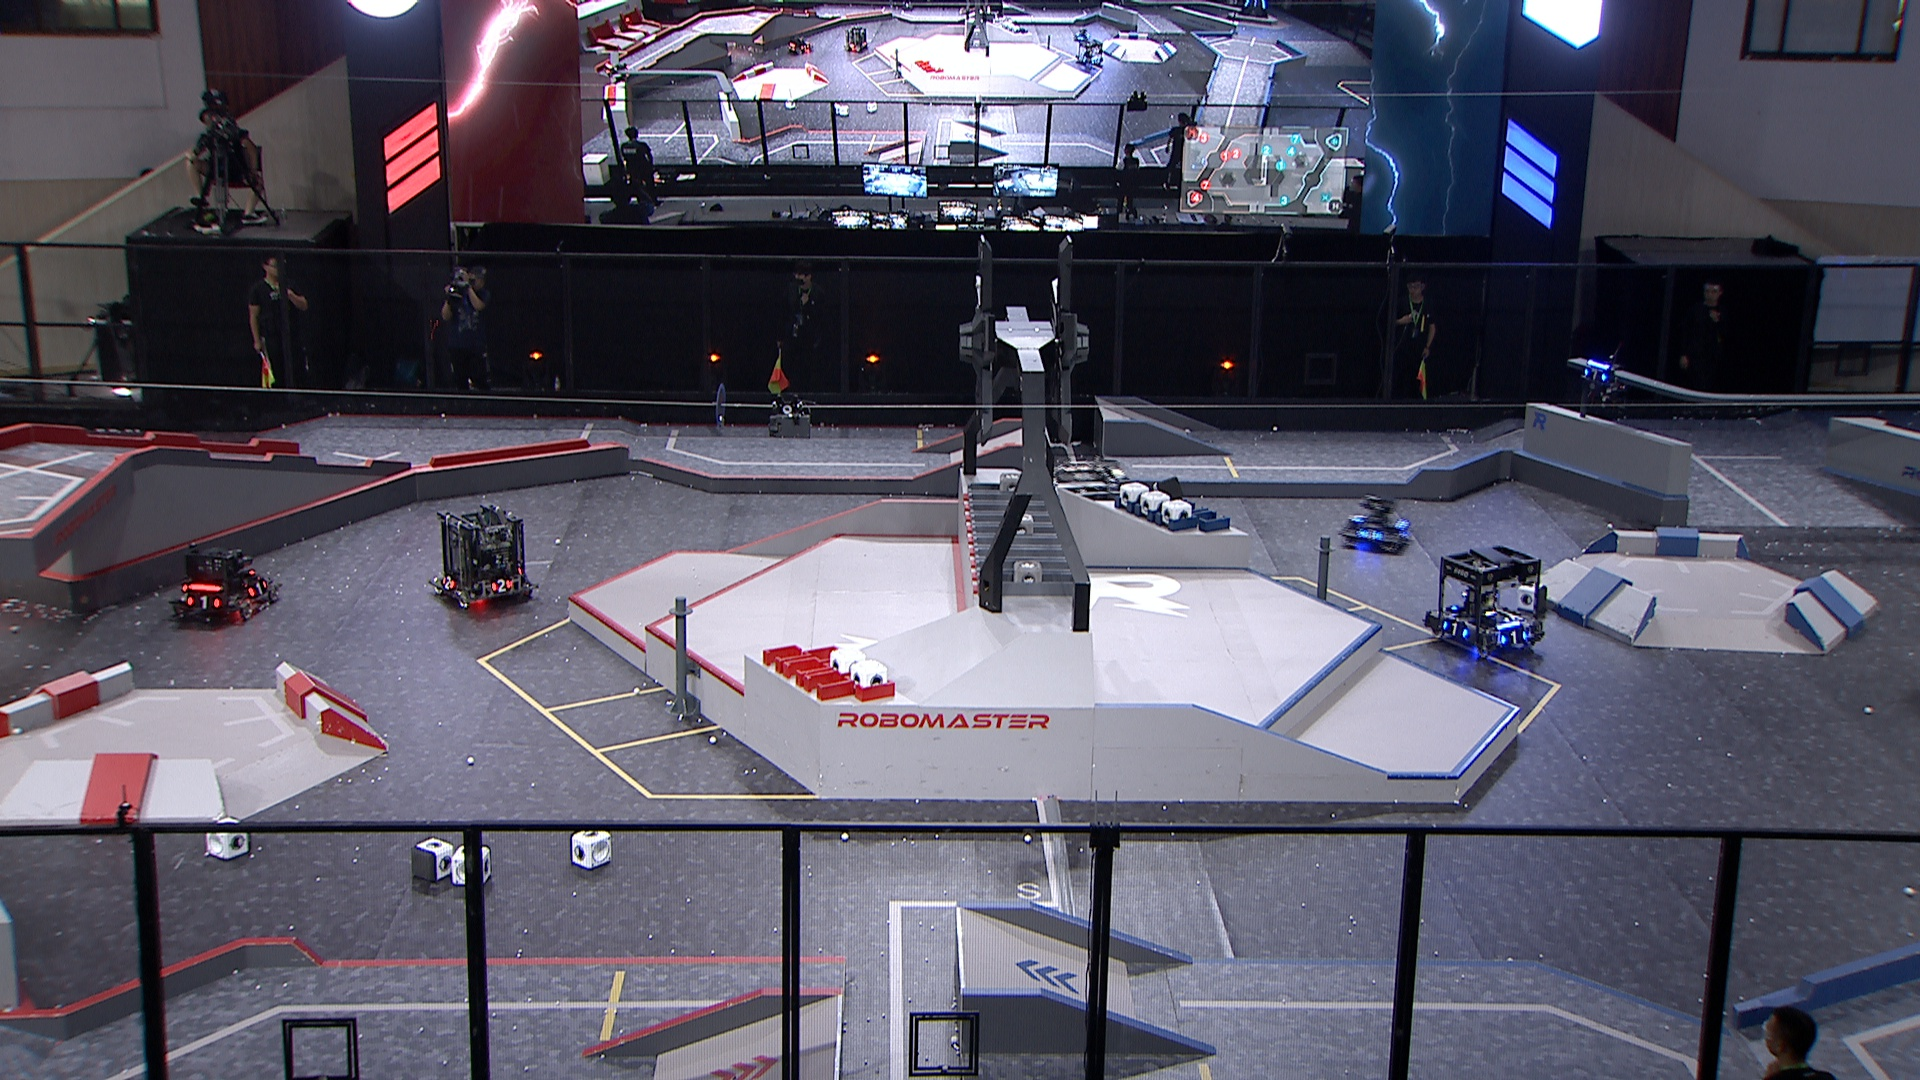armor: (1439, 621, 1472, 641), (187, 593, 222, 612), (1495, 632, 1527, 646), (1580, 367, 1609, 381), (245, 582, 272, 597), (487, 579, 514, 593), (1358, 527, 1382, 541), (439, 575, 458, 591), (1348, 513, 1367, 524)
car: (1423, 543, 1549, 659), (429, 498, 538, 613), (166, 541, 282, 624), (1048, 454, 1143, 547), (1338, 495, 1414, 556)
ignore: (1073, 36, 1106, 71), (844, 25, 870, 54), (789, 36, 816, 55)
watcher: (1575, 356, 1633, 419)
